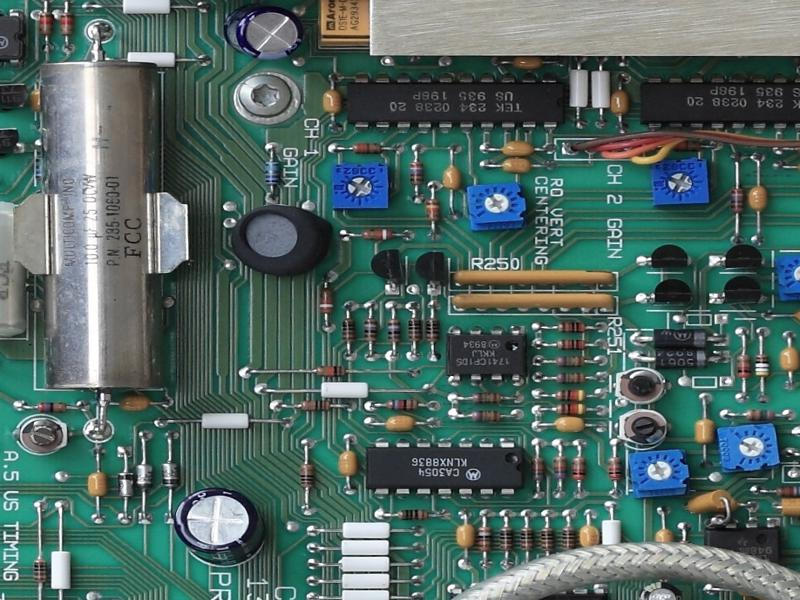Capacitor: (172, 485, 268, 569), (221, 4, 306, 63)
Diode: (646, 326, 717, 349), (646, 349, 715, 371), (132, 456, 156, 498), (159, 453, 180, 495), (116, 466, 136, 504)
Resistor: (294, 362, 363, 379), (727, 177, 748, 223), (549, 351, 594, 371), (733, 346, 755, 385), (296, 456, 317, 496), (356, 224, 400, 243), (289, 398, 341, 414), (549, 336, 595, 353), (547, 386, 592, 403), (549, 320, 596, 336), (34, 6, 56, 40), (390, 506, 434, 523), (382, 396, 426, 413), (316, 284, 338, 318), (463, 408, 507, 425), (537, 521, 557, 558), (559, 521, 579, 558), (30, 553, 50, 589), (344, 140, 392, 155), (605, 451, 626, 485), (497, 521, 516, 558), (56, 6, 76, 41), (528, 451, 548, 486), (517, 523, 537, 558), (261, 155, 282, 188), (475, 521, 494, 557), (384, 314, 404, 348), (550, 369, 590, 386), (738, 408, 783, 423), (404, 316, 425, 348), (423, 196, 444, 228), (754, 346, 772, 383), (570, 451, 589, 486), (407, 157, 427, 189), (362, 312, 380, 347), (339, 313, 358, 346), (551, 451, 570, 484), (549, 403, 596, 416), (467, 391, 507, 406), (424, 316, 442, 346), (31, 401, 72, 414)
